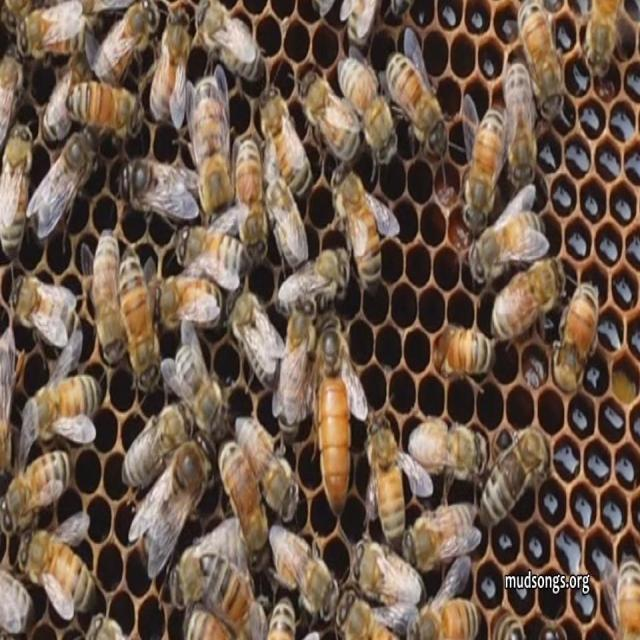honeybee: (146, 427, 210, 565), (485, 421, 556, 528), (32, 125, 93, 248), (314, 314, 355, 494), (168, 321, 234, 432), (328, 160, 386, 282), (18, 525, 99, 612), (171, 528, 247, 618), (23, 366, 104, 445), (119, 244, 164, 386), (343, 48, 394, 169), (185, 75, 232, 203), (384, 51, 446, 148), (2, 446, 74, 528), (192, 2, 268, 78), (11, 266, 83, 344), (513, 0, 562, 114), (121, 398, 200, 468), (502, 240, 558, 336), (412, 412, 484, 486), (246, 414, 295, 520), (222, 440, 266, 557), (99, 2, 160, 85), (269, 532, 340, 602), (563, 267, 603, 389), (354, 534, 421, 606), (365, 400, 401, 530), (461, 106, 497, 234), (466, 213, 546, 270), (89, 232, 124, 362), (74, 73, 138, 141), (288, 246, 351, 315), (209, 557, 261, 640), (123, 154, 192, 216), (232, 139, 267, 261), (260, 156, 301, 260), (0, 118, 33, 247), (281, 298, 318, 413), (23, 0, 90, 63), (408, 502, 477, 563), (152, 270, 222, 328), (431, 329, 509, 381), (262, 80, 300, 185), (44, 50, 87, 141), (152, 7, 186, 122), (180, 222, 243, 280), (303, 75, 348, 156), (334, 586, 401, 640), (411, 591, 479, 640), (500, 66, 532, 170), (585, 0, 621, 85), (612, 551, 639, 640), (0, 48, 25, 119), (268, 584, 296, 640), (344, 0, 372, 47)
